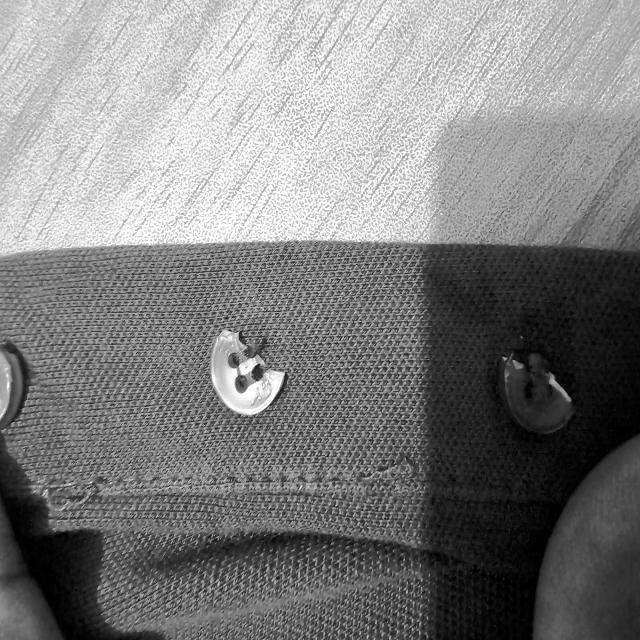Broken_button: (197, 317, 290, 427), (490, 338, 582, 448)
